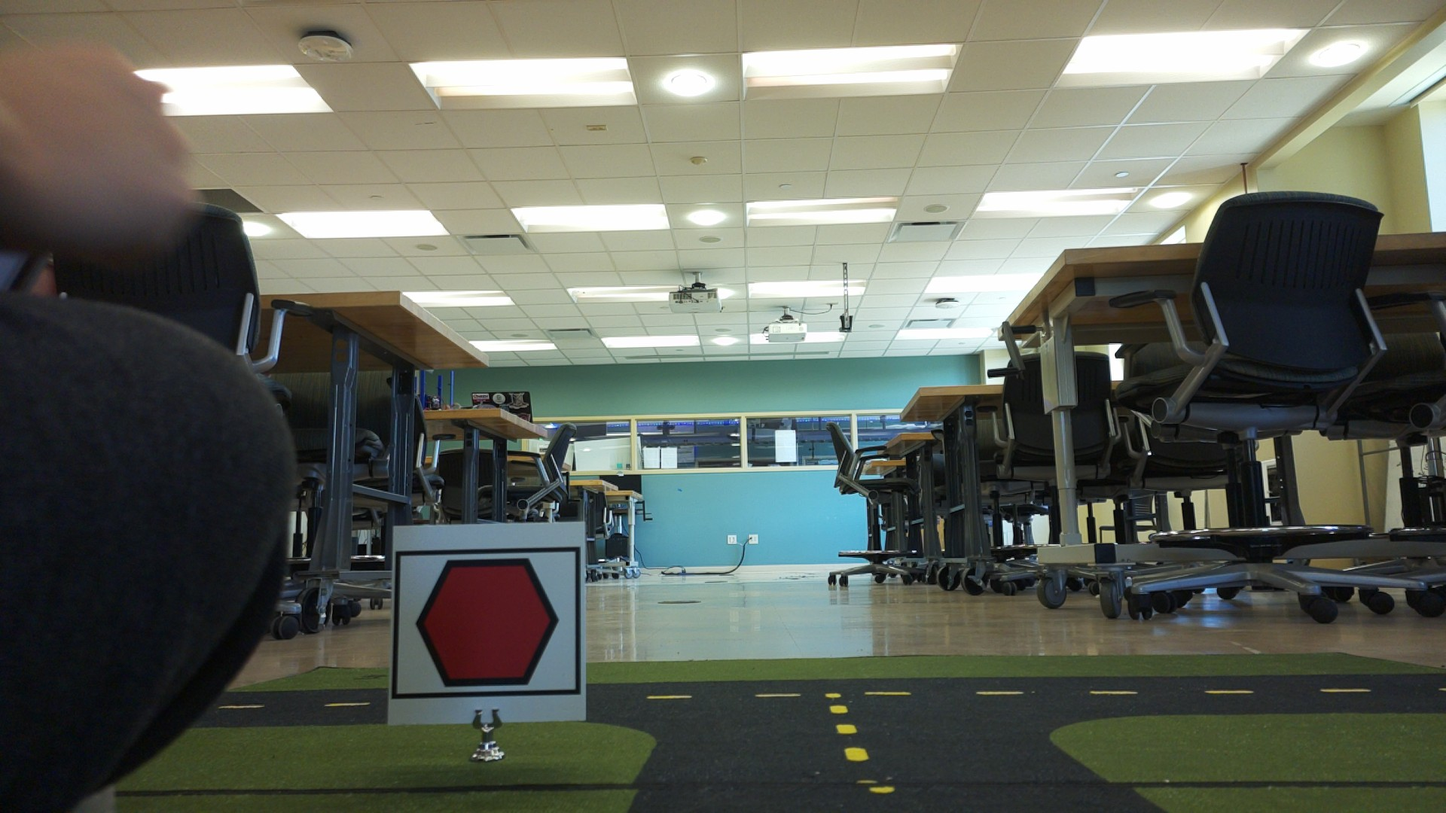stop: (405, 551, 572, 696)
yellowline: (829, 703, 893, 797)
